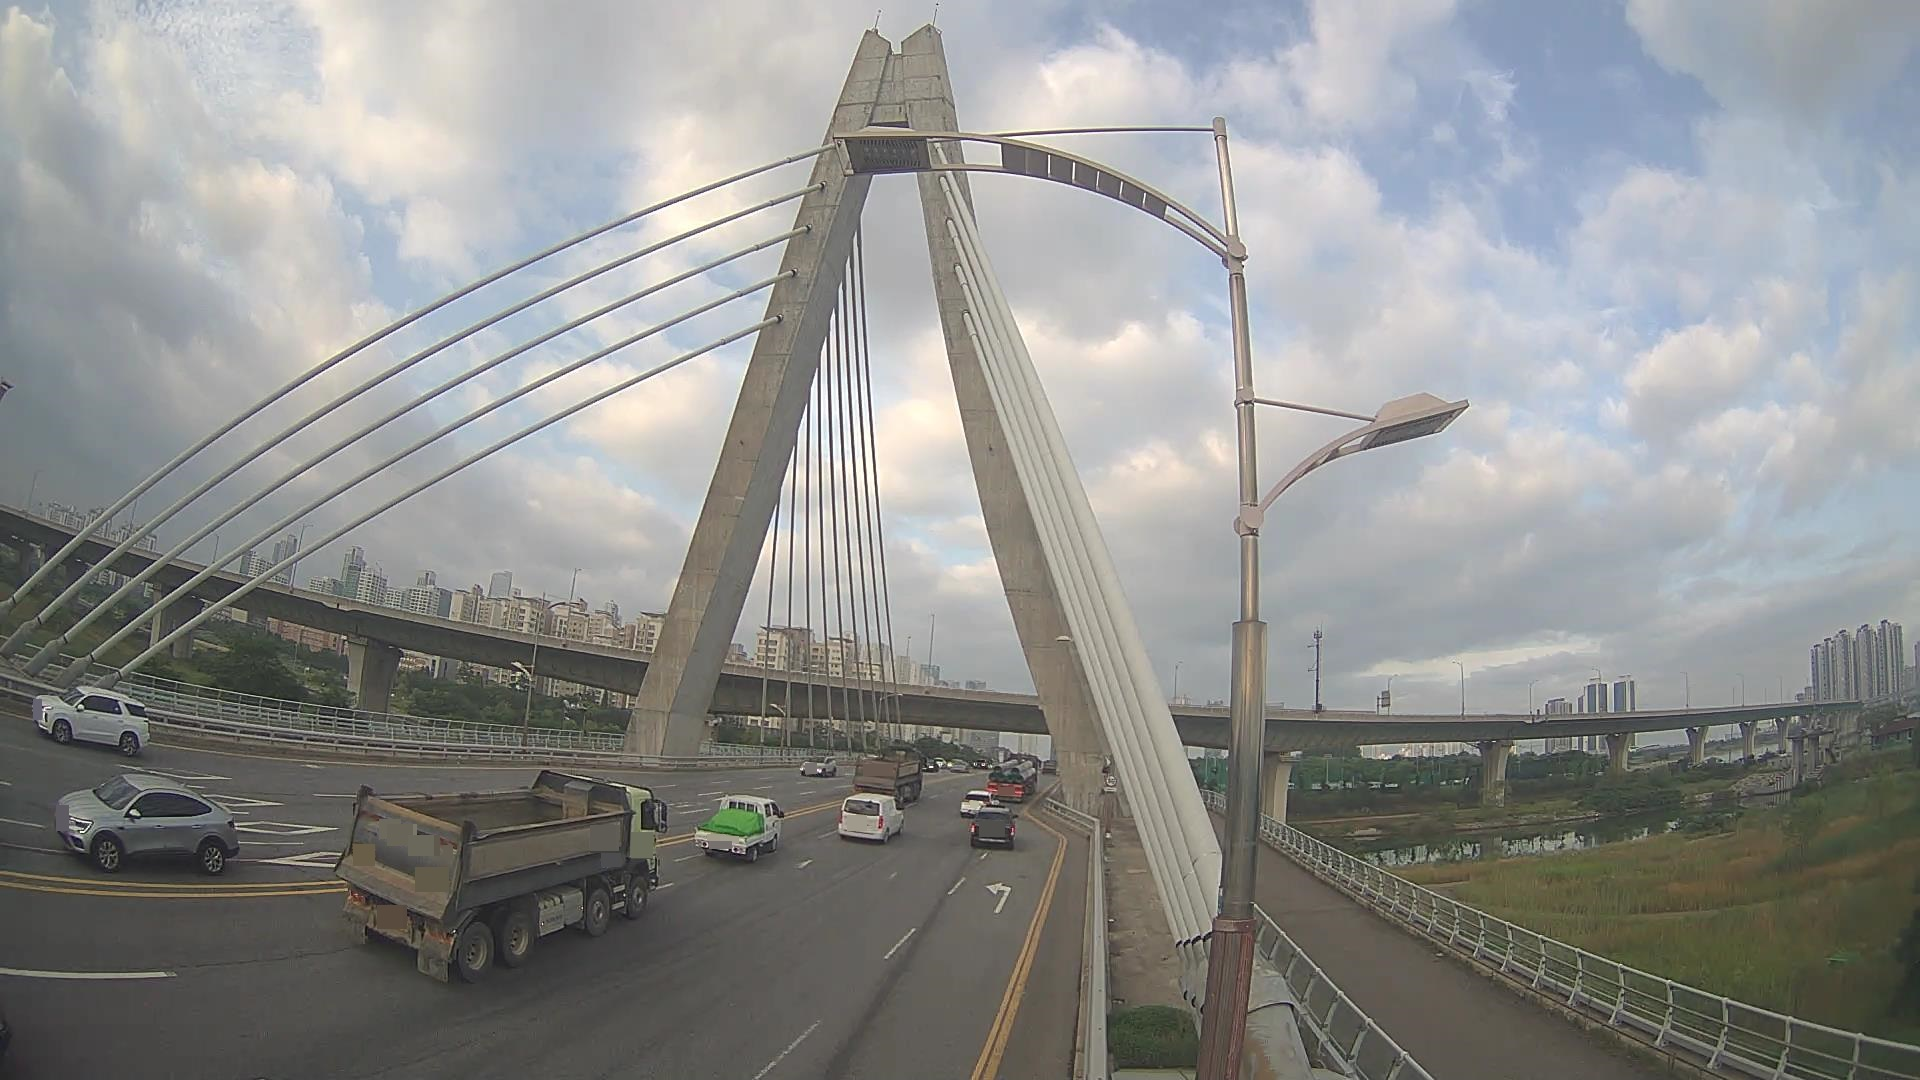정상차량: (334, 767, 671, 986)
